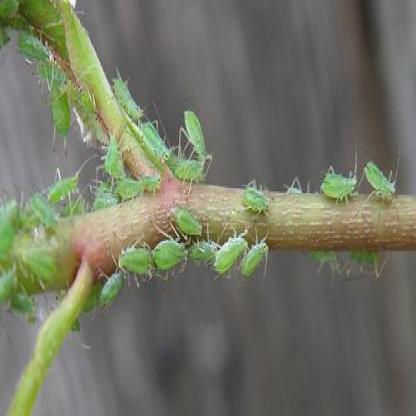aphid: (42, 44, 77, 146), (317, 150, 362, 212), (361, 145, 401, 207), (110, 58, 145, 124), (152, 225, 188, 284), (214, 222, 249, 281), (170, 138, 209, 190), (21, 236, 62, 285), (16, 23, 53, 74), (49, 162, 85, 212), (141, 117, 174, 171), (184, 106, 214, 165), (116, 236, 155, 281), (97, 262, 131, 312), (308, 233, 347, 274), (348, 239, 385, 281), (31, 188, 61, 237), (74, 75, 98, 136), (99, 122, 126, 174), (174, 205, 207, 247), (134, 155, 164, 200), (244, 231, 270, 280), (243, 178, 269, 226), (89, 169, 118, 211), (117, 167, 146, 206), (189, 234, 216, 269), (1, 2, 22, 31)
